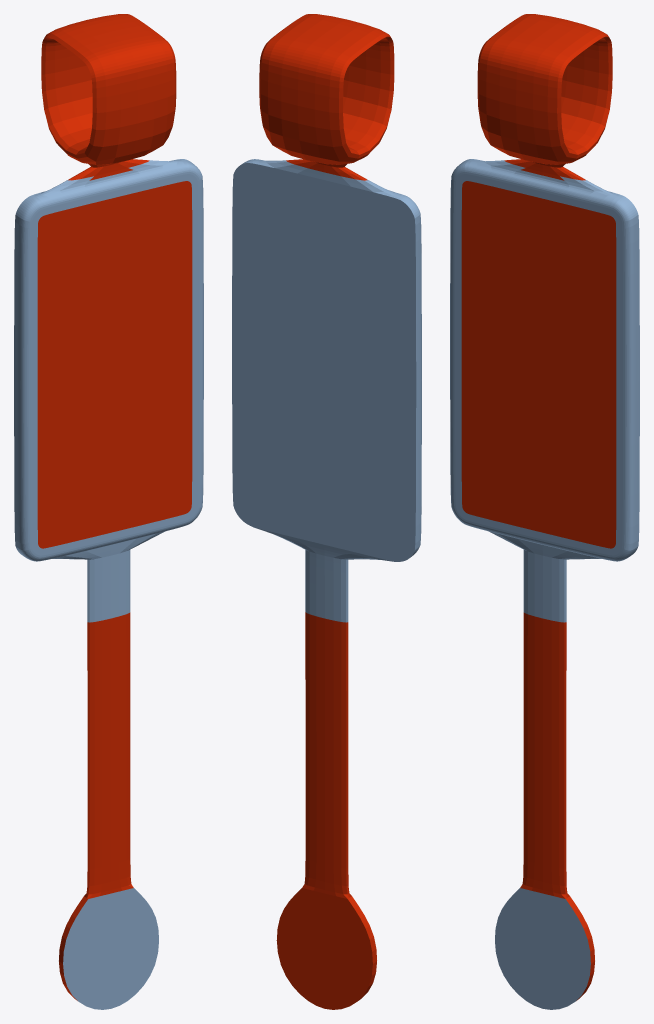
Rendered from Vault_01_Medal.fbx.
3 views of the same model, side by side, from view 1: azimuth 30°, elevation 25°; view 2: azimuth 150°, elevation 25°; view 3: azimuth 330°, elevation 25° (orthographic).
Visible parts, largest first — view 1: Amuleto_LOD0; view 2: Amuleto_LOD0; view 3: Amuleto_LOD0.
Boxes of the visible parts, <box> form: Amuleto_LOD0: <box>14,14,203,1009</box>; Amuleto_LOD0: <box>232,14,421,1009</box>; Amuleto_LOD0: <box>450,14,639,1009</box>.
Size of what is drawn, in the model's own units: 18.74 by 94.88 by 10.26.
